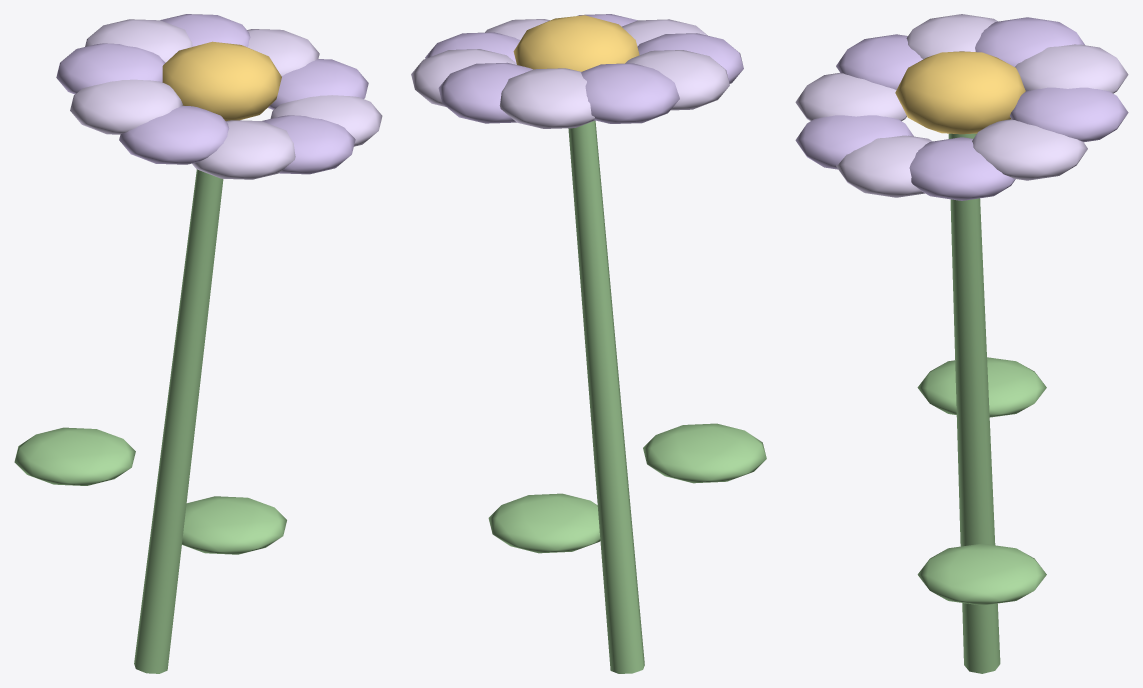
Rendered from giant_flower.glb.
3 renders of one model, left to right at view 1: azimuth 30°, elevation 25°; view 2: azimuth 150°, elevation 25°; view 3: azimuth 270°, elevation 25°, orthographic. The views are drawn at different scales.
Visible parts, largest first — view 1: GiantFlower; view 2: GiantFlower; view 3: GiantFlower.
Boxes of the visible parts, x1,y1,x2,y2 form: GiantFlower: (14,14,382,673); GiantFlower: (411,14,766,673); GiantFlower: (795,14,1128,673).
Size of the model in its own units: 1.94 by 3.47 by 1.65.
